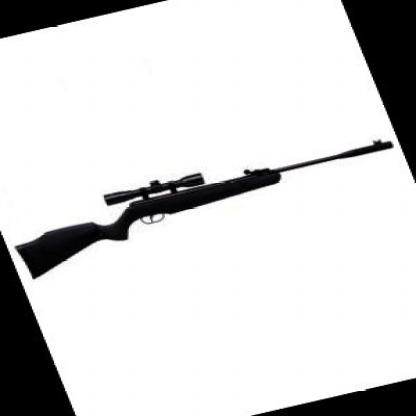rifle: (0, 124, 409, 276)
